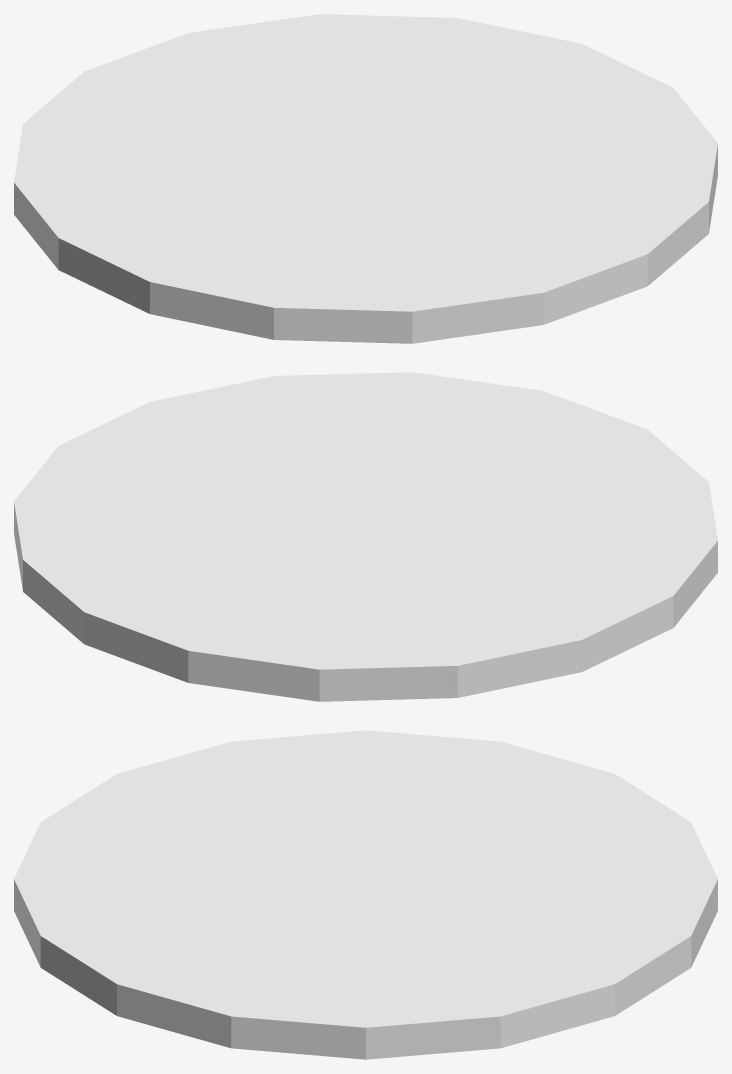
The model's file is landing_circle.fbx.
The picture shows the model from 3 angles, top to bottom: view 1: azimuth 30°, elevation 25°; view 2: azimuth 150°, elevation 25°; view 3: azimuth 270°, elevation 25°; orthographic projection.
Visible parts, largest first — view 1: landing_circle; view 2: landing_circle; view 3: landing_circle.
Boxes of the visible parts, x1=… form: landing_circle: x1=14, y1=14, x2=717, y2=343; landing_circle: x1=14, y1=372, x2=717, y2=701; landing_circle: x1=14, y1=730, x2=717, y2=1059.
Bounding box in the file's own units: 200 × 10 × 200.
1 material, 1 textured.
